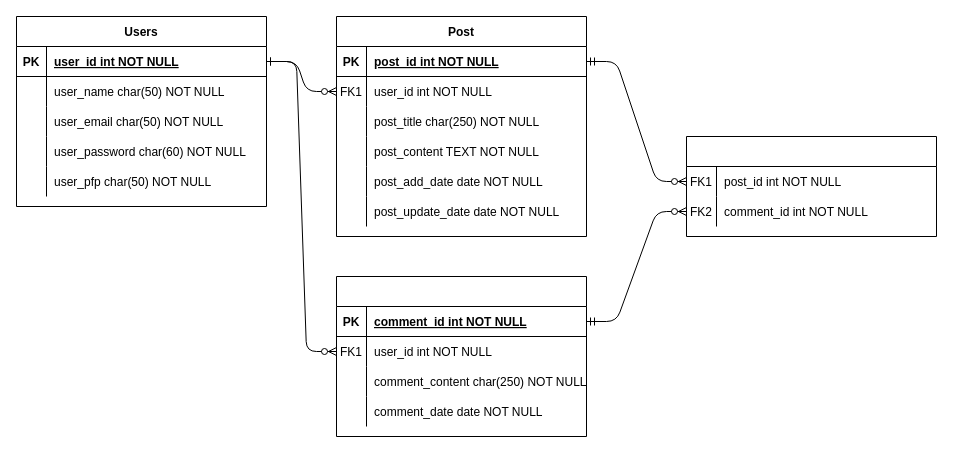
This 953x453 diagram has some shape labels left out. Each missing label, with the box of its shape:
Comments: (336, 276, 586, 436)
Post_Comments: (686, 136, 936, 236)
